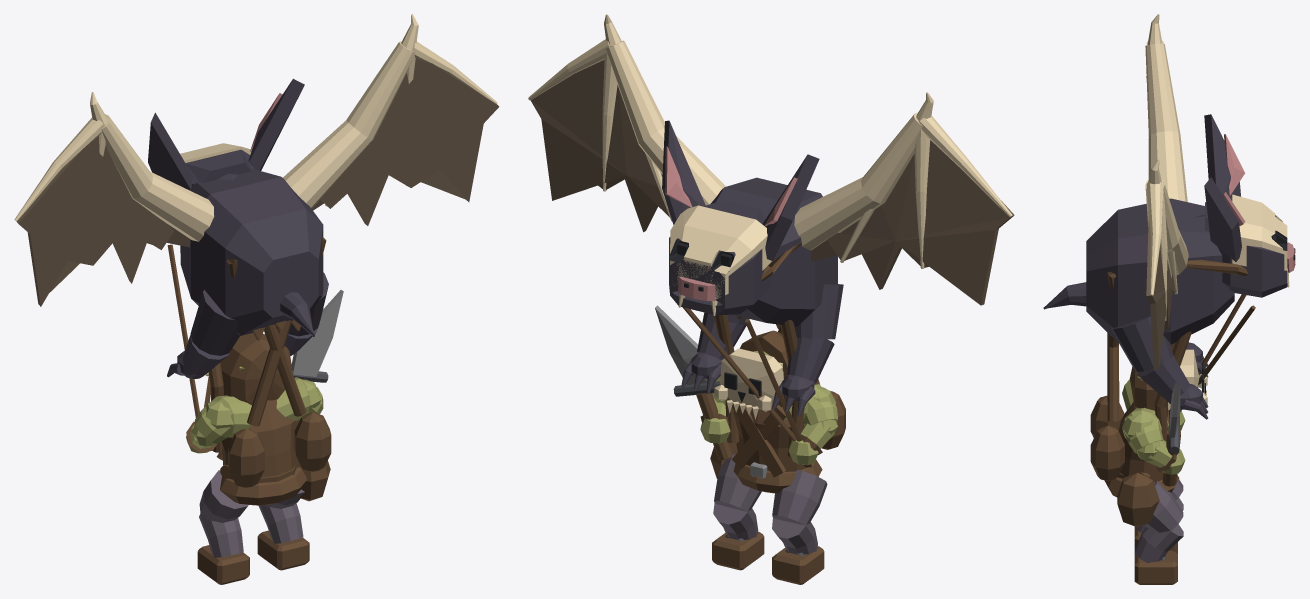
The model's file is host_34.glb.
3 views of the same model, side by side, from view 1: azimuth 30°, elevation 25°; view 2: azimuth 150°, elevation 25°; view 3: azimuth 270°, elevation 25° (orthographic). The views are drawn at different scales.
Visible parts, largest first — view 1: V6 mount continuous anatomical thorax, V6 source mounted closed scalloped membrane R, V6 source mounted closed scalloped membrane L, V6 source mounted wing shoulder elbow wrist bone R, V6 source mounted wing shoulder elbow wrist bone L, V6 hanging source goblin actual contacting brown side supply (×2), V6 source fitted domed cloth hood, V6 rider source seated thorax, V6 bat actual contacting hind thigh L, V6 bat source tall pointed anatomical ear, V6 source curved forged dagger blade, V6 rider source contacting seated pelvis (+18 smaller); view 2: V6 source mounted closed scalloped membrane L, V6 source mounted closed scalloped membrane R, V6 mount continuous anatomical thorax, V6 source mounted wing shoulder elbow wrist bone L, V6 Bonecarrier bat source hollow ivory skull mask, V6 bat source short faceted cranium, V6 source mounted wing shoulder elbow wrist bone R, V6 rider actual connected seated thigh L, Source carved bone skull faceted broad mask, V6 bat source tall pointed anatomical ear, V6 bat source tall pointed anatomical ear.001, V6 bat actual contacting hind thigh L (+26 smaller); view 3: V6 mount continuous anatomical thorax, V6 source mounted wing shoulder elbow wrist bone L, V6 bat source short faceted cranium, V6 hanging source goblin actual contacting brown side supply (×2), V6 Bonecarrier bat source hollow ivory skull mask, V6 source mounted closed scalloped membrane R, V6 bat source tall pointed anatomical ear.001, V6 bat actual contacting hind thigh R, Heavy attached loot pouch, V6 bat source tall pointed anatomical ear, V6 source actual membrane finger R, Grounded boot R (+20 smaller).
Boxes of the visible parts, box(x1,y1,x2,y2) form: V6 mount continuous anatomical thorax: box(180, 169, 323, 335); V6 source mounted closed scalloped membrane R: box(312, 59, 499, 225); V6 source mounted closed scalloped membrane L: box(16, 136, 190, 306); V6 source mounted wing shoulder elbow wrist bone R: box(283, 41, 415, 208); V6 source mounted wing shoulder elbow wrist bone L: box(101, 114, 214, 241); V6 hanging source goblin actual contacting brown side supply (×2): box(228, 412, 331, 488); V6 source fitted domed cloth hood: box(220, 333, 284, 405); V6 rider source seated thorax: box(221, 399, 298, 479); V6 bat actual contacting hind thigh L: box(190, 290, 240, 355); V6 bat source tall pointed anatomical ear: box(148, 112, 192, 189); V6 source curved forged dagger blade: box(291, 290, 343, 376); V6 rider source contacting seated pelvis: box(220, 466, 306, 505); V6 source mounted closed scalloped membrane L: box(810, 140, 1014, 305); V6 source mounted closed scalloped membrane R: box(530, 60, 669, 232); V6 mount continuous anatomical thorax: box(710, 177, 837, 326); V6 source mounted wing shoulder elbow wrist bone L: box(794, 112, 922, 250); V6 Bonecarrier bat source hollow ivory skull mask: box(670, 205, 771, 299); V6 bat source short faceted cranium: box(669, 200, 771, 315); V6 source mounted wing shoulder elbow wrist bone R: box(606, 40, 725, 205); V6 rider actual connected seated thigh L: box(772, 470, 827, 525); Source carved bone skull faceted broad mask: box(720, 348, 783, 410); V6 bat source tall pointed anatomical ear: box(763, 154, 819, 260); V6 bat source tall pointed anatomical ear.001: box(662, 120, 705, 224); V6 bat actual contacting hind thigh L: box(794, 284, 843, 339); V6 mount continuous anatomical thorax: box(1086, 198, 1234, 344); V6 source mounted wing shoulder elbow wrist bone L: box(1145, 43, 1187, 201); V6 bat source short faceted cranium: box(1205, 197, 1287, 297); V6 hanging source goblin actual contacting brown side supply (×2): box(1090, 395, 1124, 481); V6 Bonecarrier bat source hollow ivory skull mask: box(1232, 194, 1287, 270); V6 source mounted closed scalloped membrane R: box(1146, 211, 1176, 370); V6 bat source tall pointed anatomical ear.001: box(1204, 177, 1241, 261); V6 bat actual contacting hind thigh R: box(1111, 316, 1172, 371); Heavy attached loot pouch: box(1117, 472, 1159, 527); V6 bat source tall pointed anatomical ear: box(1204, 114, 1240, 197); V6 source actual membrane finger R: box(1146, 182, 1163, 295); Grounded boot R: box(1134, 550, 1177, 584).
Size of the model in its own units: 2.45 by 2.49 by 1.19.
